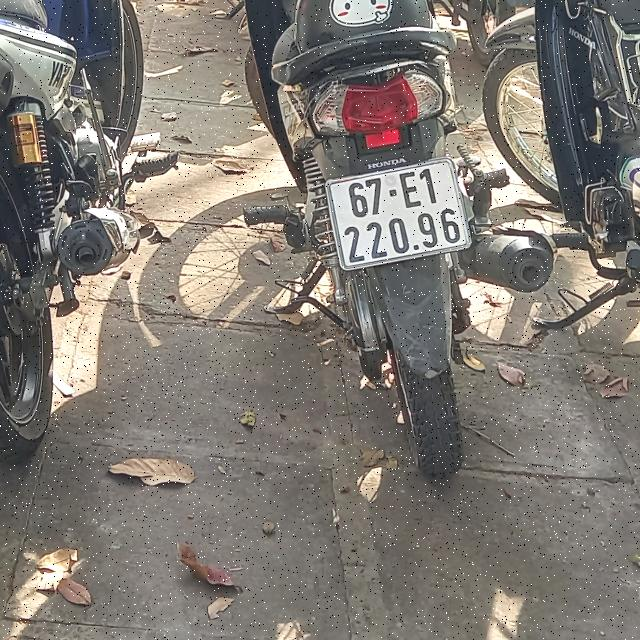0: (387, 218, 409, 252)
1: (419, 166, 436, 203)
2: (342, 226, 367, 264), (364, 221, 388, 258)
6: (349, 181, 370, 220), (441, 208, 463, 245)
7: (367, 177, 385, 216)
9: (416, 211, 438, 249)
E: (398, 170, 424, 210)
